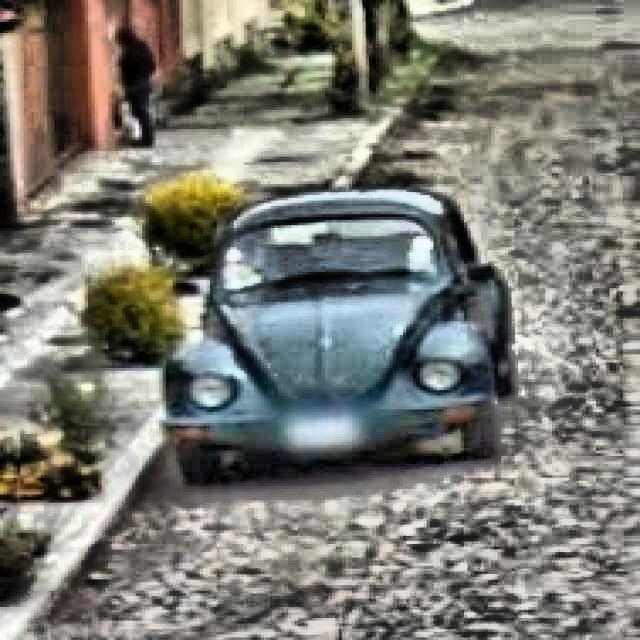carro: (191, 188, 515, 470)
